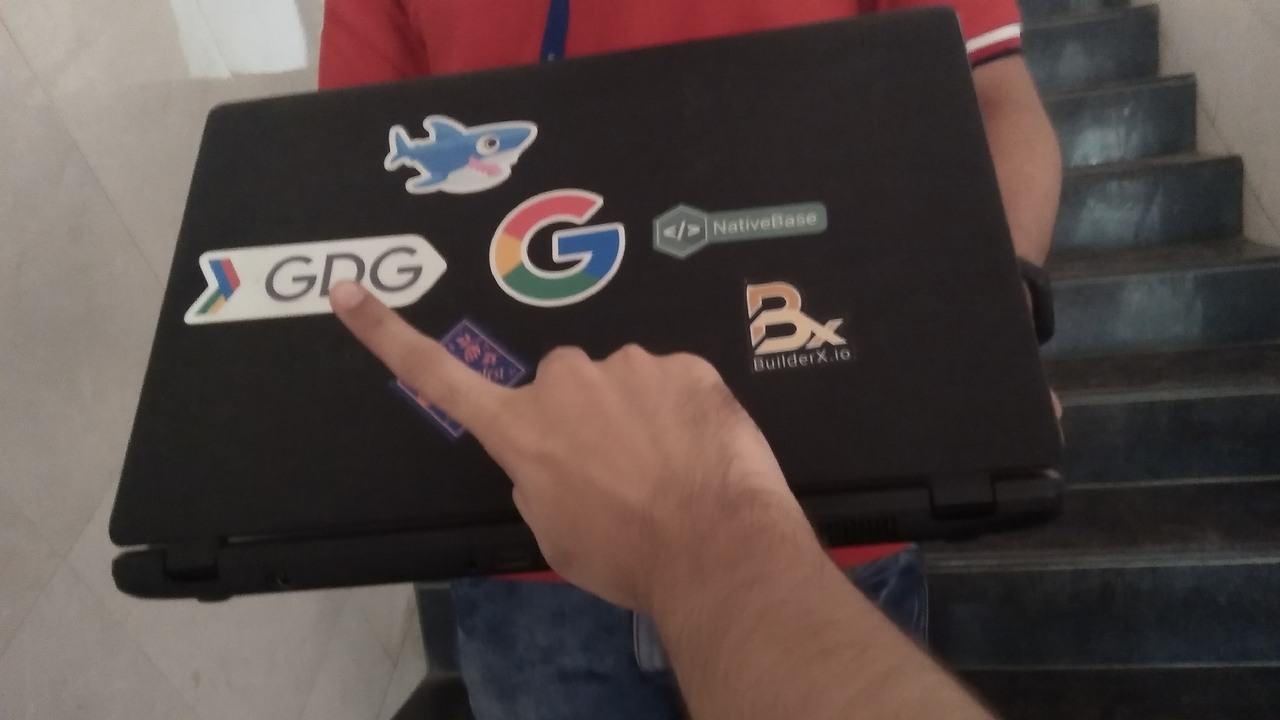fingertip: (318, 272, 390, 326)
